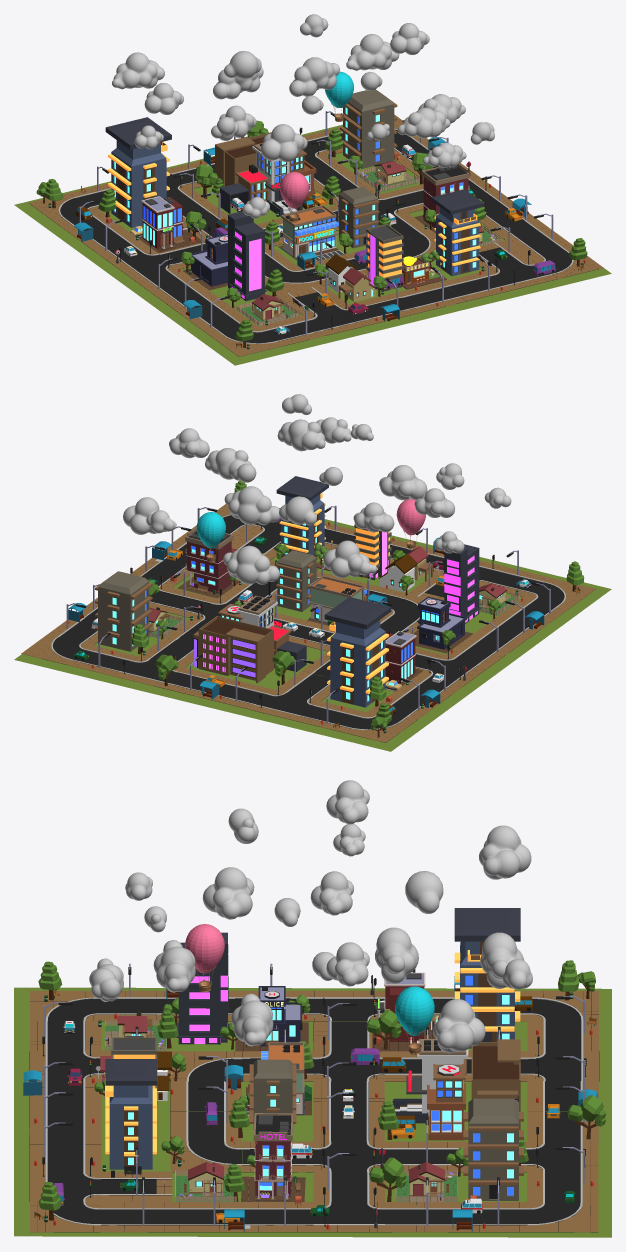
Rendered from Neon_Night_City.glb.
The picture shows the model from 3 angles, top to bottom: view 1: azimuth 30°, elevation 25°; view 2: azimuth 150°, elevation 25°; view 3: azimuth 270°, elevation 25°; orthographic projection. The views are drawn at different scales.
Parts seen in each view (by area): view 1: Plane, apartment2.002, apartment2.001, apartment.001, Helipad, Grocery Store, Bank, Large Apartments, apartment, Office, Police Station, Hotel (+57 smaller); view 2: Plane, apartment2.002, apartment.001, Office_2, Hotel, apartment2.001, Police Station, Helipad, apartment, Large Apartments, Cube.009, Bank (+54 smaller); view 3: Plane, apartment2.002, apartment2.001, apartment.001, Helipad, Hotel, Large Apartments, apartment, Road_B.022, Road_B.005, Road_B.021, Road_B.012 (+66 smaller).
Part boxes in pixels (x1,y1,x2,y2): Plane: [14, 124, 611, 365]; apartment2.002: [105, 117, 171, 227]; apartment2.001: [431, 189, 483, 276]; apartment.001: [340, 89, 397, 168]; Helipad: [220, 143, 316, 216]; Grocery Store: [278, 205, 344, 262]; Bank: [130, 196, 203, 252]; Large Apartments: [226, 211, 266, 300]; apartment: [337, 186, 379, 248]; Office: [366, 224, 403, 291]; Police Station: [182, 233, 227, 290]; Hotel: [414, 163, 469, 233]; Plane: [14, 508, 611, 751]; apartment2.002: [324, 597, 391, 707]; apartment.001: [95, 571, 152, 651]; Office_2: [193, 616, 273, 683]; Hotel: [177, 527, 238, 598]; apartment2.001: [276, 476, 328, 557]; Police Station: [413, 596, 473, 653]; Helipad: [218, 595, 306, 671]; apartment: [276, 550, 317, 611]; Large Apartments: [443, 544, 480, 623]; Cube.009: [192, 619, 269, 678]; Bank: [385, 631, 422, 691]; Plane: [14, 987, 611, 1237]; apartment2.002: [454, 908, 520, 1048]; apartment2.001: [105, 1059, 156, 1169]; apartment.001: [463, 1098, 523, 1200]; Helipad: [393, 1039, 468, 1140]; Hotel: [241, 1113, 305, 1201]; Large Apartments: [176, 932, 229, 1044]; apartment: [249, 1059, 296, 1129]; Road_B.022: [29, 1122, 101, 1171]; Road_B.005: [527, 996, 598, 1051]; Road_B.021: [29, 1092, 101, 1141]; Road_B.012: [100, 1177, 171, 1232].
Bounding box in the file's own units: 20.19 × 9.16 × 20.5.
77 materials, 9 textured.
